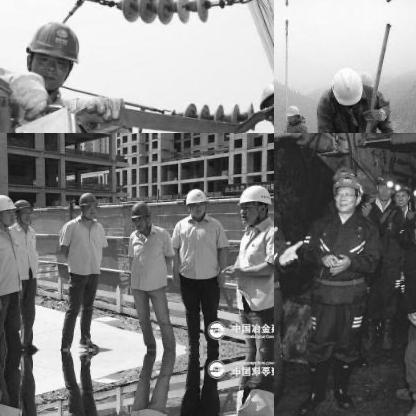Helmet: (20, 9, 84, 92), (233, 180, 273, 224), (328, 64, 366, 104), (330, 166, 362, 212), (128, 196, 152, 232), (257, 77, 273, 129), (182, 184, 208, 216), (74, 187, 100, 219), (372, 169, 392, 199), (12, 195, 32, 221), (392, 179, 412, 205), (0, 192, 15, 225), (280, 102, 300, 124)
